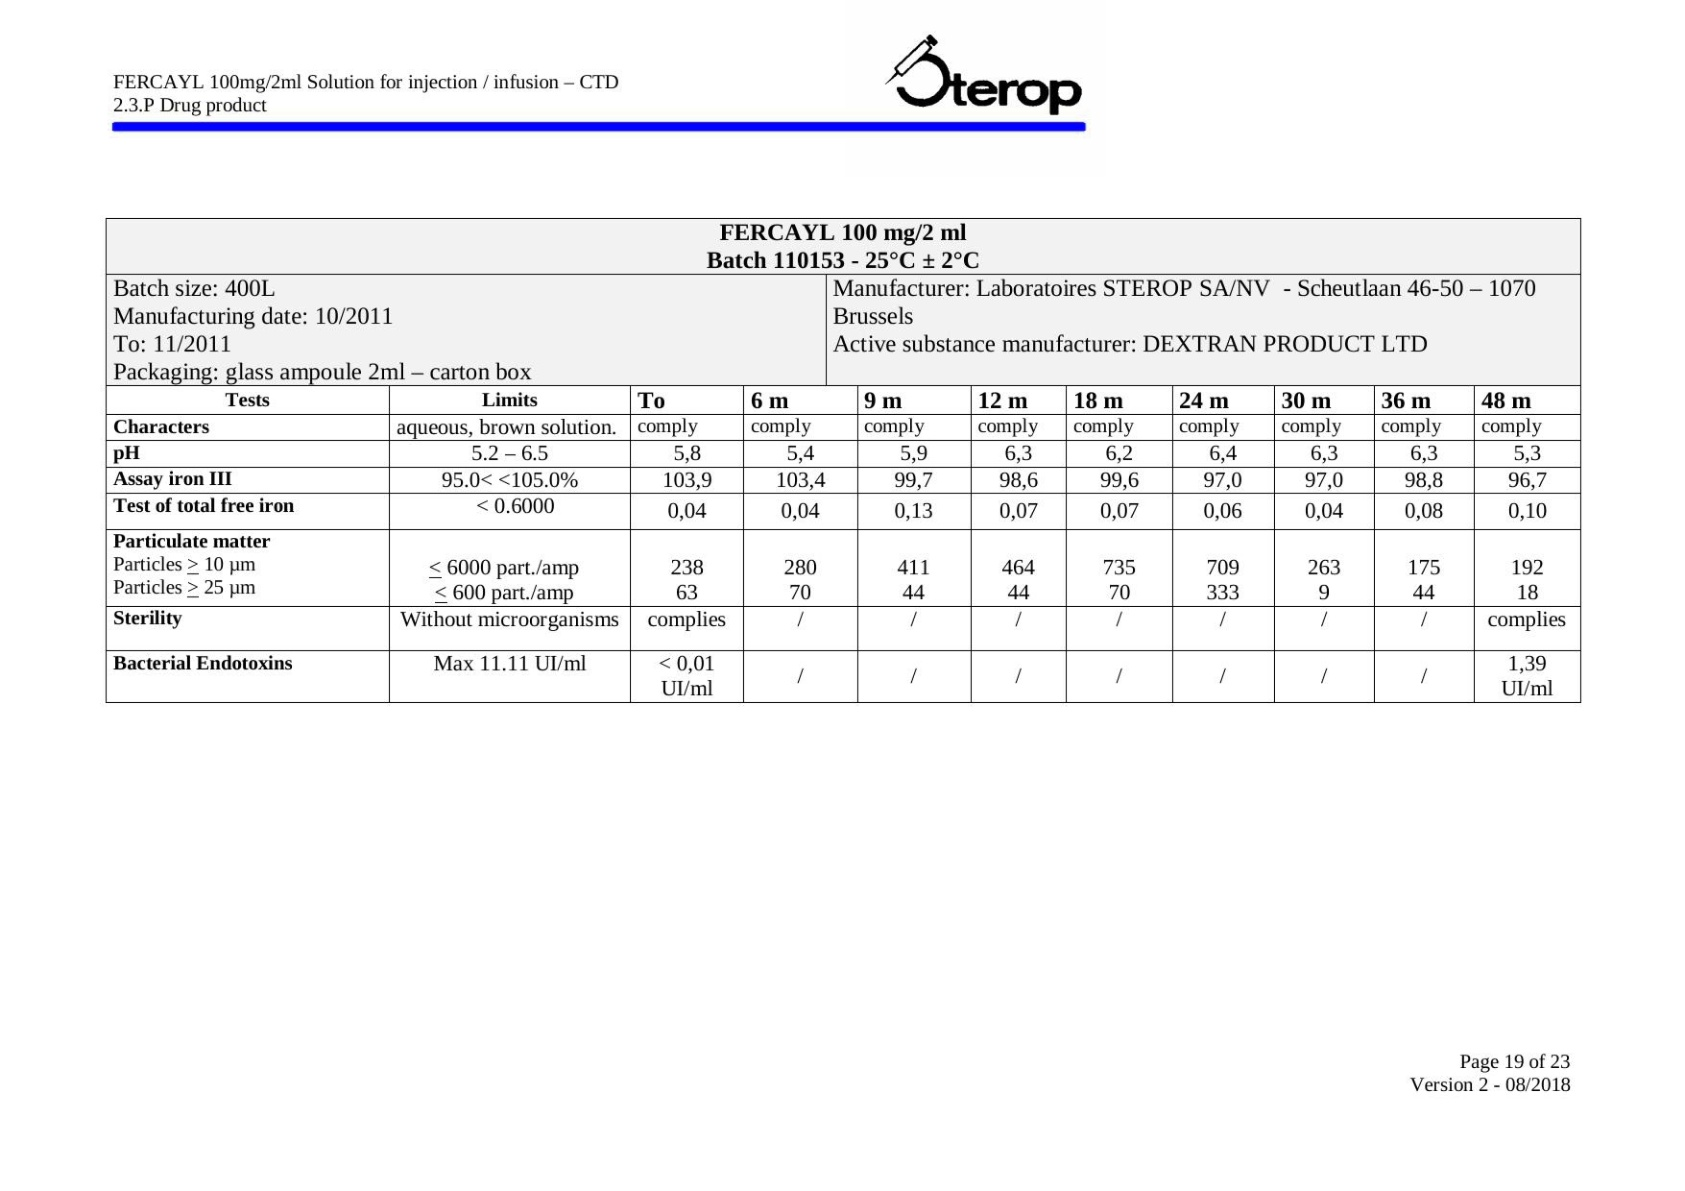merged_cells: (104, 217, 1582, 702)
